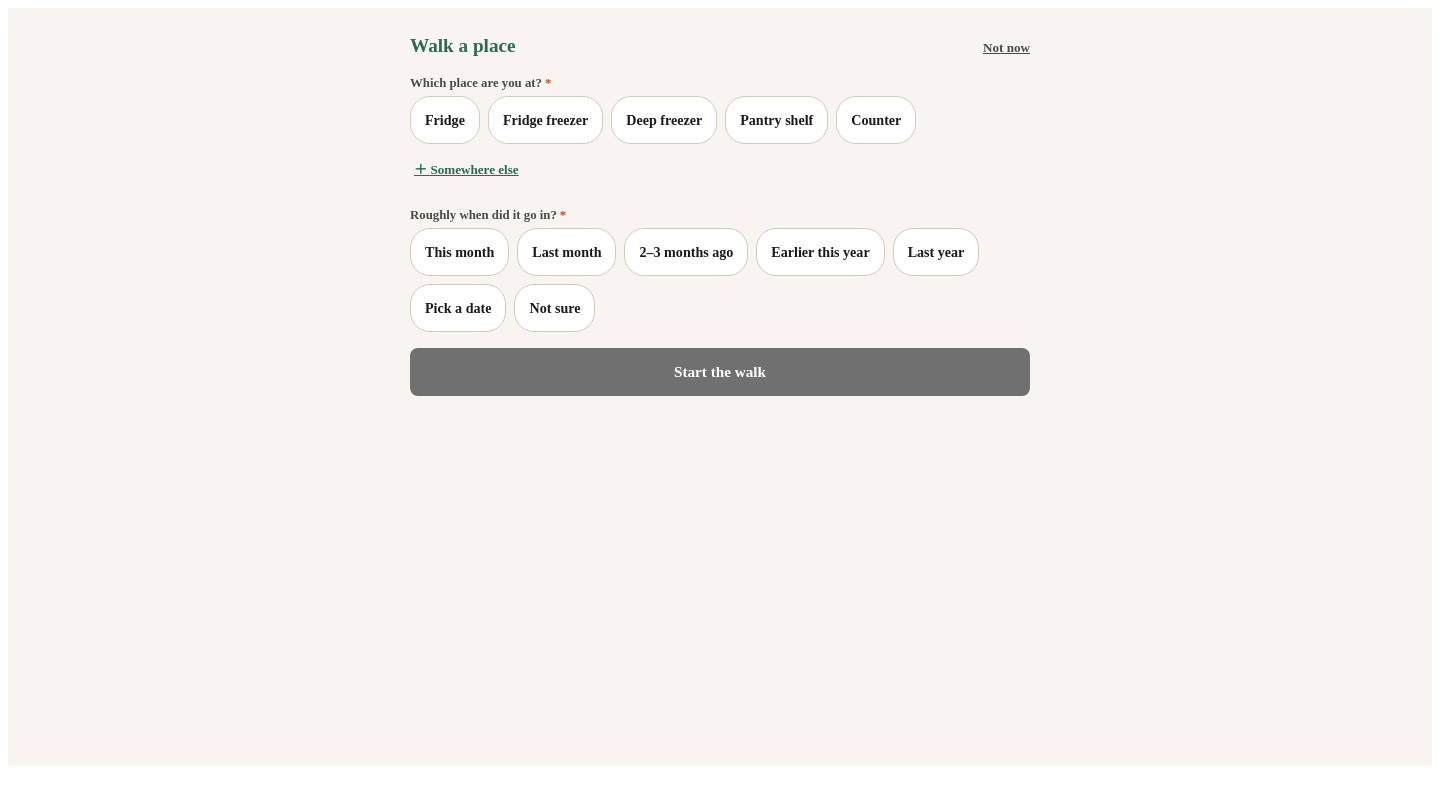
the walk keeps the creator and does NOT get the manage door › offers "＋ Somewhere else" (a name + a kind) with no editing affordance
Click the button "＋ Somewhere else": (466, 168) [410,144,523,192]
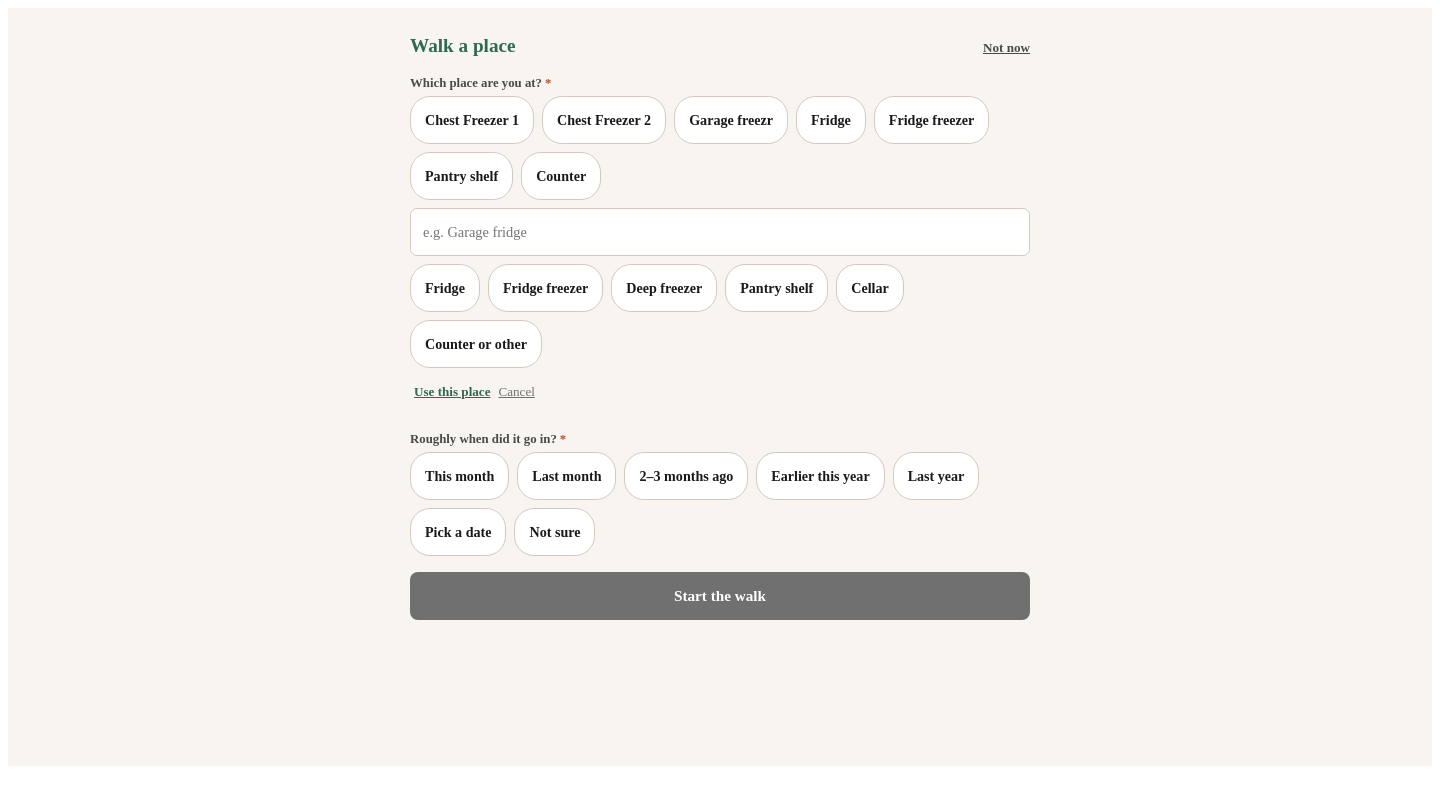
Expected: the field named "Name of the place" is shown, [410,208,1030,256]
Expected: the element named "What kind of place?" is shown, [410,264,904,368]
